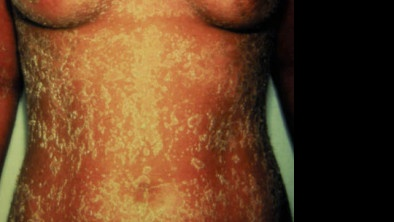SJS-TEN: (2, 0, 296, 221)
